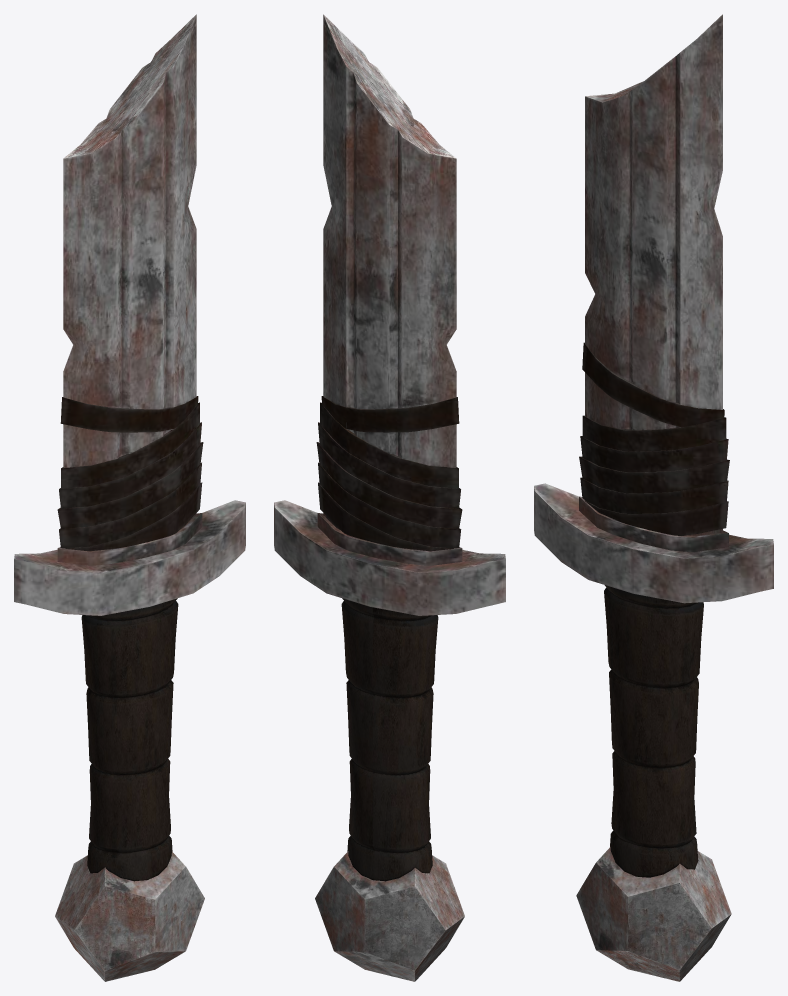
The model's file is broken-sword.fbx.
3 renders of one model, left to right at view 1: azimuth 30°, elevation 25°; view 2: azimuth 150°, elevation 25°; view 3: azimuth 330°, elevation 25°, orthographic. The views are drawn at different scales.
Visible parts, largest first — view 1: defaultMaterial; view 2: defaultMaterial; view 3: defaultMaterial.
Boxes of the visible parts, x1,y1,x2,y2 form: defaultMaterial: (14,14,245,981); defaultMaterial: (274,14,505,981); defaultMaterial: (534,14,773,981).
Bounding box in the file's own units: 51.32 × 200 × 19.35.
1 material, 1 textured.
